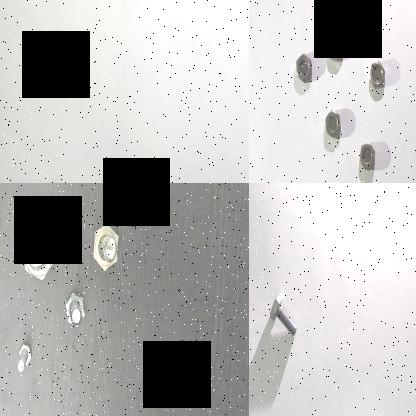Bolts: (16, 214, 60, 284), (87, 210, 122, 277), (268, 288, 298, 341), (63, 286, 91, 338), (11, 340, 39, 382)
NUTS: (326, 30, 345, 68), (294, 49, 312, 86), (323, 107, 341, 139), (358, 140, 376, 172), (366, 58, 385, 88)
